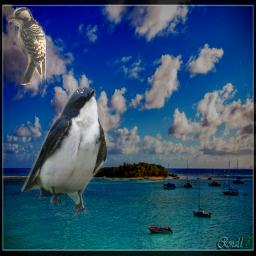Swallow: (21, 86, 107, 216)
Woodpecker: (6, 7, 46, 85)
